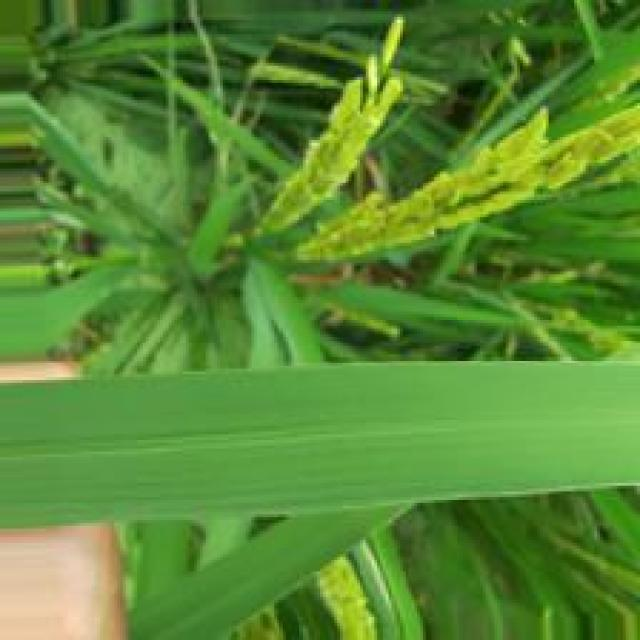HealthyLeaf: (0, 363, 639, 534)
